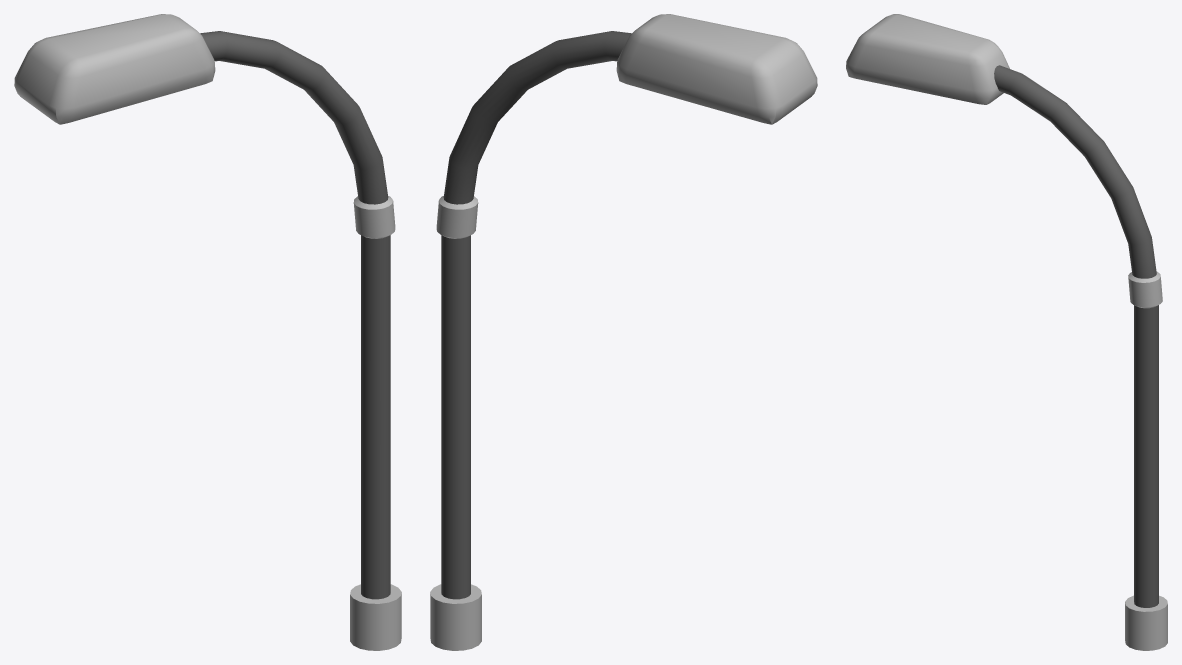
The model's file is StreetLamp.fbx.
3 views of the same model, side by side, from view 1: azimuth 30°, elevation 25°; view 2: azimuth 150°, elevation 25°; view 3: azimuth 330°, elevation 25° (orthographic). The views are drawn at different scales.
Visible parts, largest first — view 1: StreetLamp; view 2: StreetLamp; view 3: StreetLamp.
Part boxes in pixels (x1,y1,x2,y2): StreetLamp: (14,14,401,650); StreetLamp: (430,14,817,650); StreetLamp: (846,14,1167,650).
Size of the model in its own units: 2.31 by 0.5453 by 4.04.
